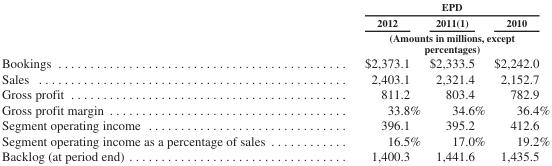table: (0, 0, 549, 162)
table column: (0, 0, 314, 162), (314, 0, 424, 162), (424, 0, 488, 162), (488, 0, 549, 162)
table column header: (0, 0, 549, 54)
table row: (0, 29, 549, 54), (0, 54, 549, 70), (0, 70, 549, 86), (0, 101, 549, 117), (0, 132, 549, 148), (0, 14, 549, 29), (0, 86, 549, 101), (0, 117, 549, 132), (0, 0, 549, 14), (0, 148, 549, 162)
table spanning cell: (314, 29, 549, 54), (314, 0, 549, 14)
